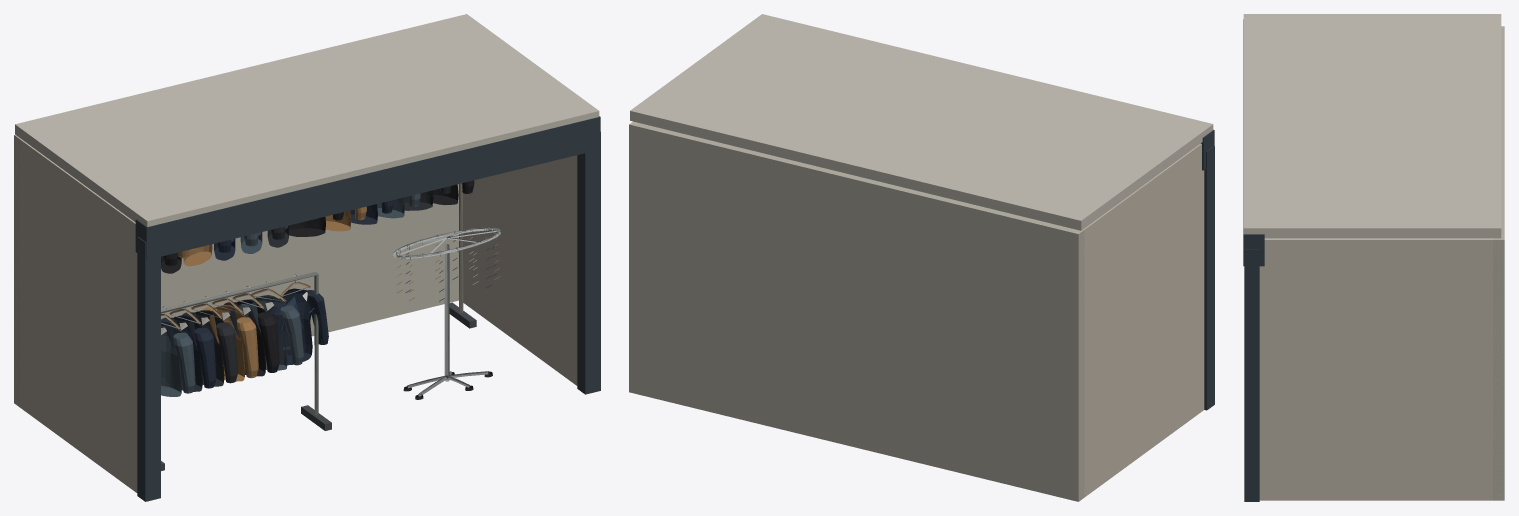
File: tailoring.glb
3 renders of one model, left to right at view 1: azimuth 30°, elevation 25°; view 2: azimuth 150°, elevation 25°; view 3: azimuth 270°, elevation 25°, orthographic. The views are drawn at different scales.
Visible parts, largest first — view 1: tailoring; view 2: tailoring; view 3: tailoring.
Part boxes in pixels (x1,y1,x2,y2): tailoring: (14,14,600,501); tailoring: (629,14,1214,501); tailoring: (1243,14,1504,501).
Size of the model in its own units: 5.26 by 3.1 by 2.69.
